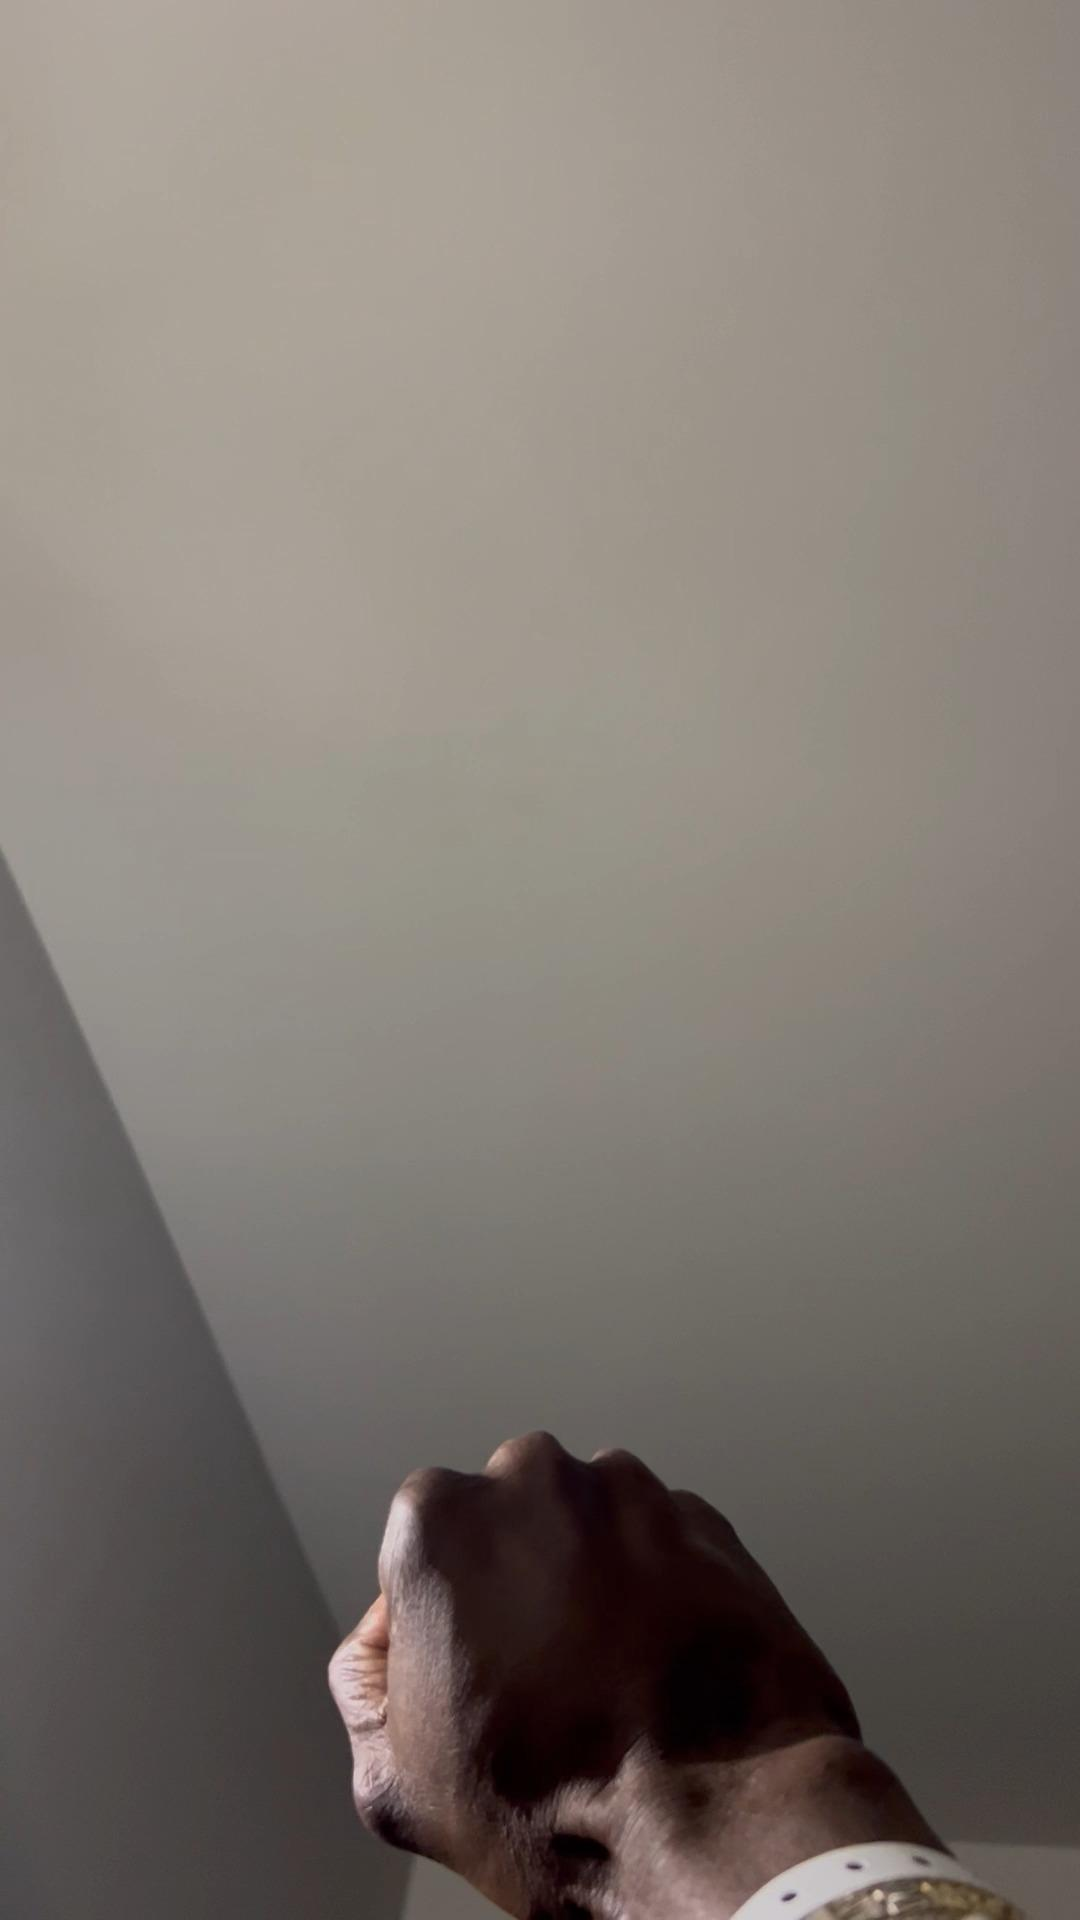Rock: (320, 1416, 873, 1920)
